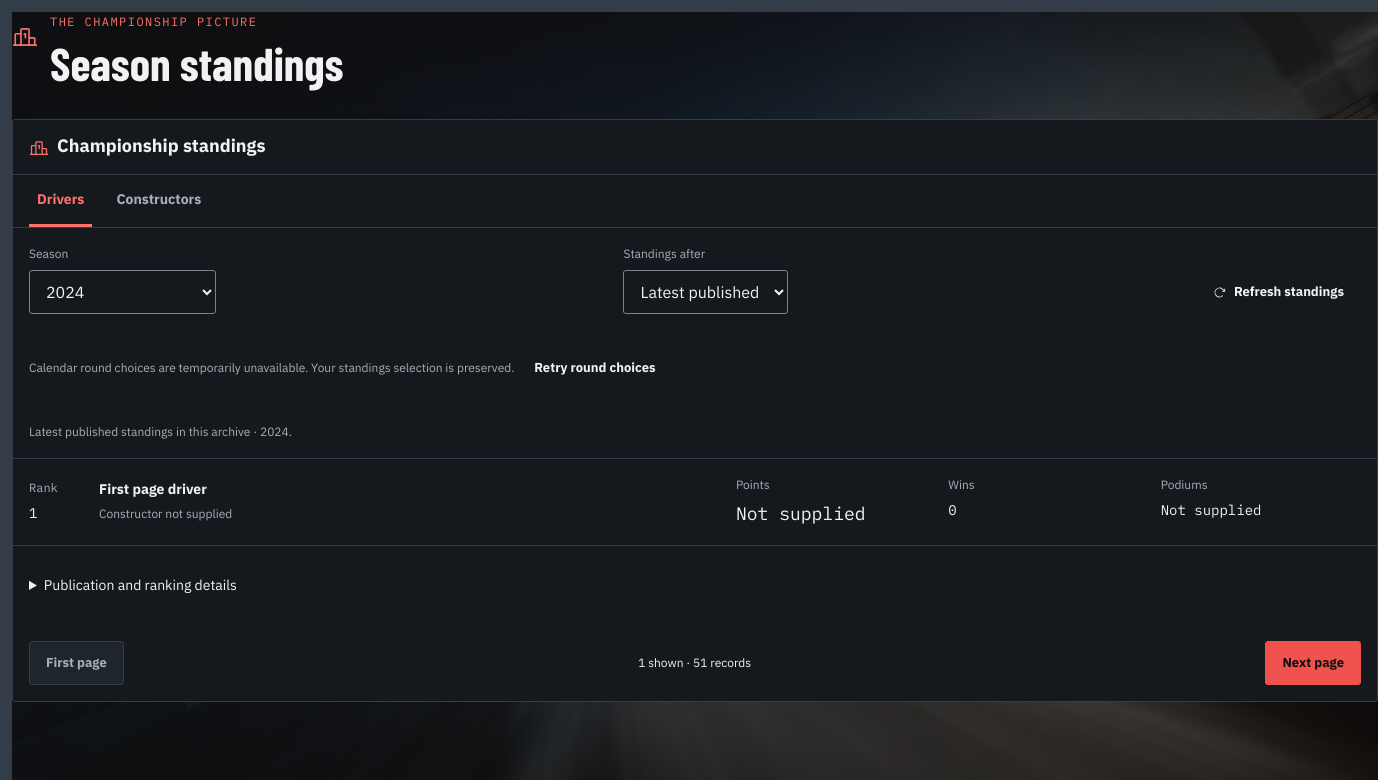
Scenario: standings pagination preserves initial selection filters
Expected: the text "First page driver" is shown, [99,480,207,500]
Expected: the text "Not supplied" below "Points" is shown, [736,502,866,525]
Click the button "Next page".
click(1313, 663)  # box [1266,641,1361,685]
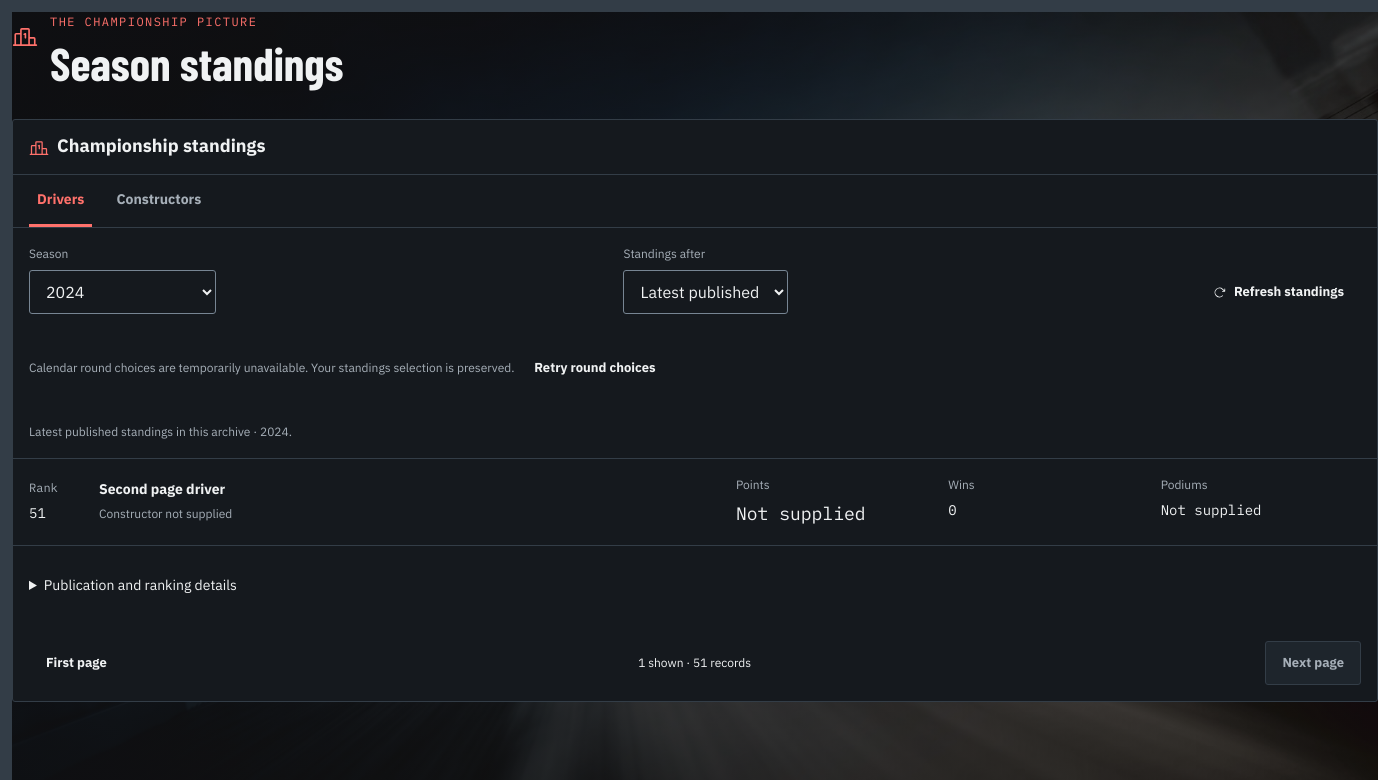
Expected: the text "Second page driver" is shown, [99,480,225,500]
